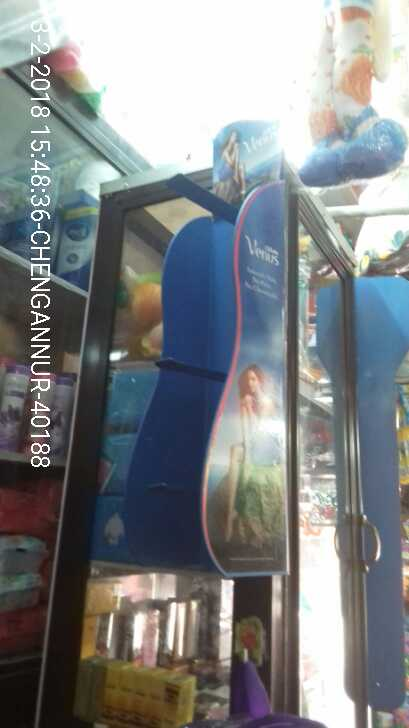reject: (159, 281, 238, 366)
